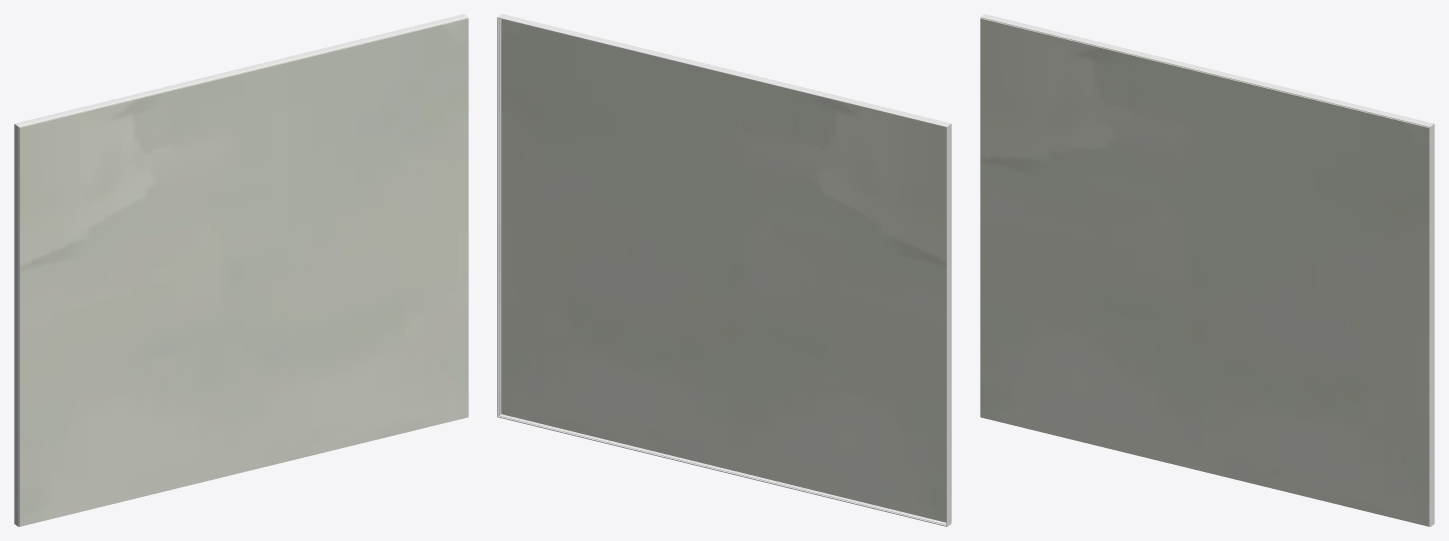
Rendered from HOOD PANEL 1000X 850.glb.
The picture shows the model from 3 angles, left to right: view 1: azimuth 30°, elevation 25°; view 2: azimuth 150°, elevation 25°; view 3: azimuth 330°, elevation 25°; orthographic projection.
Size of the model in its own units: 1 by 0.85 by 0.02.
Materials: 2 (1 with a texture image).
